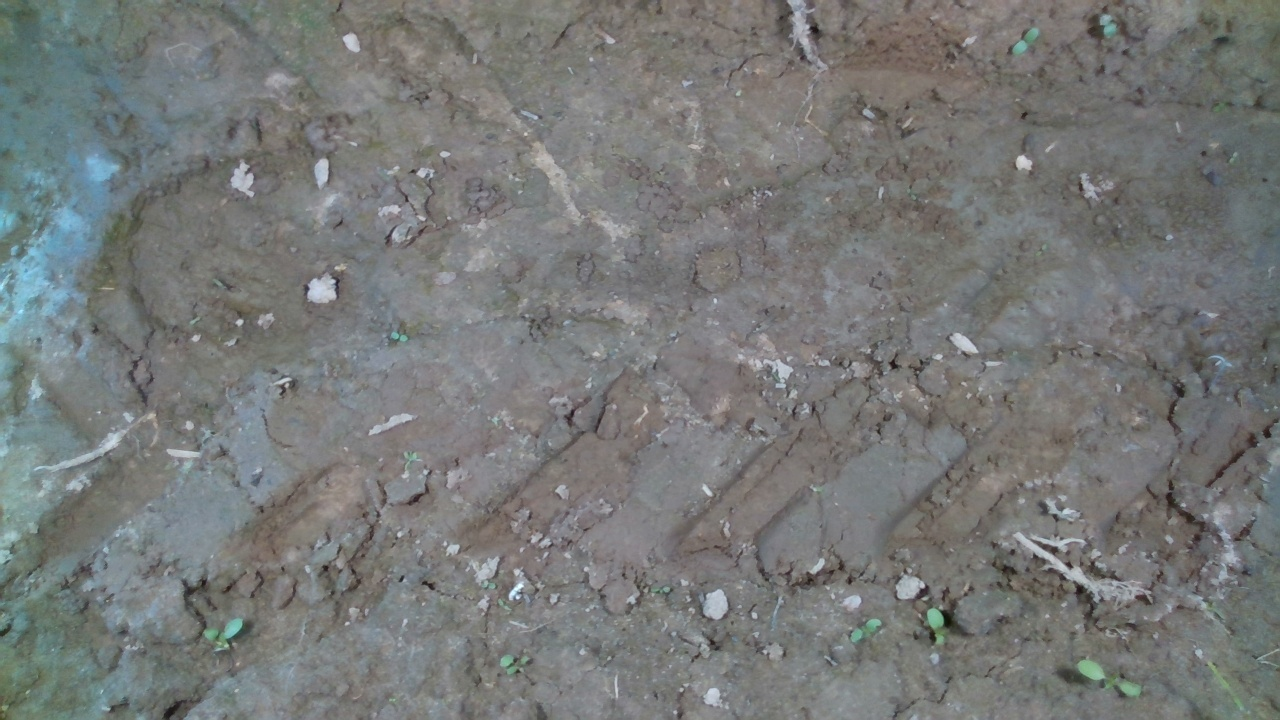weed: (1075, 658, 1143, 698), (1009, 24, 1040, 55), (849, 616, 883, 644), (925, 606, 947, 649), (498, 653, 532, 675), (1097, 13, 1119, 40), (388, 329, 410, 343), (1227, 150, 1239, 165)
